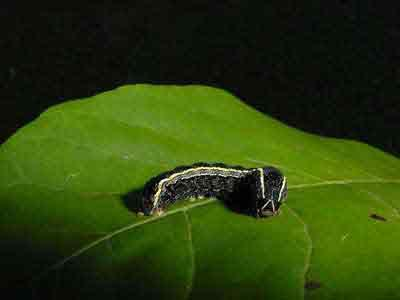caterpillars: (121, 148, 300, 240)
